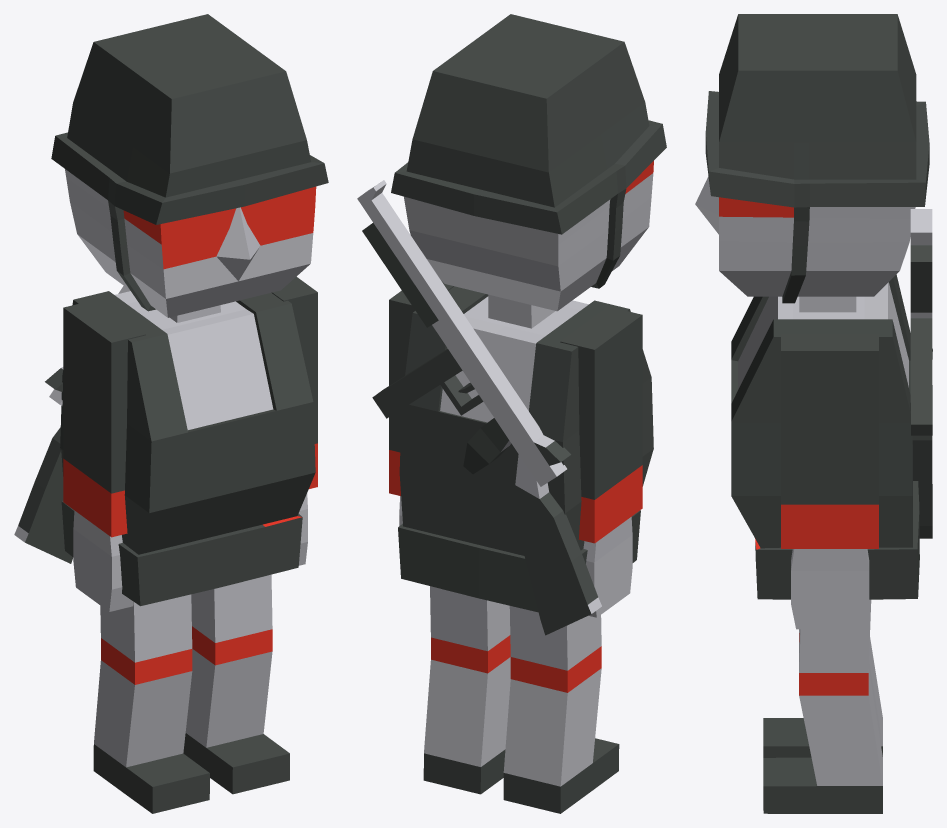
Rendered from Robot_Infantry.fbx.
3 renders of one model, left to right at view 1: azimuth 30°, elevation 25°; view 2: azimuth 150°, elevation 25°; view 3: azimuth 270°, elevation 25°, orthographic. The views are drawn at different scales.
Parts seen in each view (by area): view 1: Human.002, R_leg.015, Arm_L.013, R_leg.014, Gun.002, Arm_L.012; view 2: Human.002, Gun.002, R_leg.015, Arm_L.013, R_leg.014, Arm_L.012; view 3: Human.002, Arm_L.012, R_leg.014, Gun.002, R_leg.015.
Boxes of the visible parts, bbox=[...] form: Human.002: bbox=[51, 14, 328, 606]; R_leg.015: bbox=[93, 594, 209, 813]; Arm_L.013: bbox=[63, 299, 145, 611]; R_leg.014: bbox=[183, 574, 289, 794]; Gun.002: bbox=[14, 286, 130, 563]; Arm_L.012: bbox=[271, 276, 317, 565]; Human.002: bbox=[391, 14, 666, 612]; Gun.002: bbox=[357, 180, 601, 635]; R_leg.015: bbox=[503, 606, 619, 813]; Arm_L.013: bbox=[560, 306, 642, 617]; R_leg.014: bbox=[423, 586, 510, 794]; Arm_L.012: bbox=[389, 280, 453, 525]; Human.002: bbox=[695, 14, 929, 599]; Arm_L.012: bbox=[781, 334, 878, 629]; R_leg.014: bbox=[763, 599, 882, 813]; Gun.002: bbox=[910, 209, 932, 538]; R_leg.015: bbox=[763, 629, 882, 757].
Bounding box in the file's own units: 281 × 823 × 241.
Materials: 1 (1 with a texture image).
